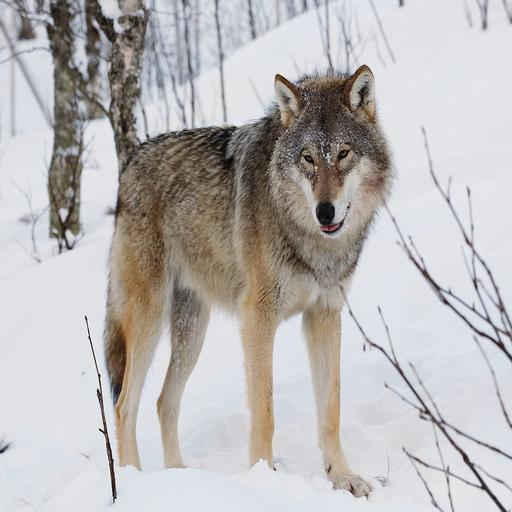Wolf: (96, 62, 396, 508)
